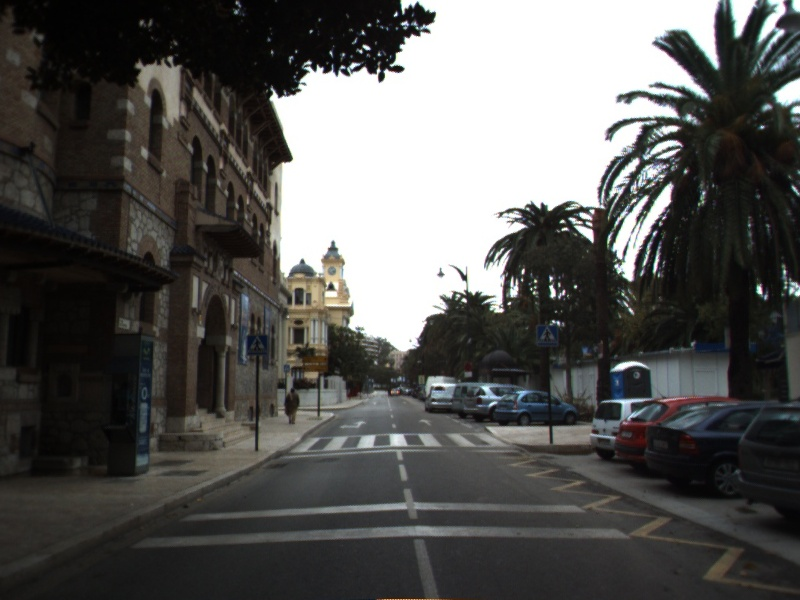STRAIGHT: (417, 417, 434, 428)
STRAIGHT_LEFT: (337, 418, 368, 431)
